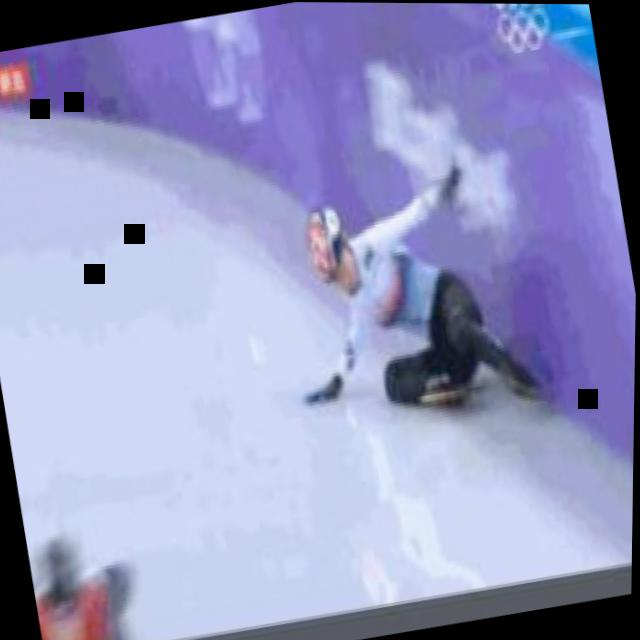Fall-Detected: (262, 120, 560, 435)
